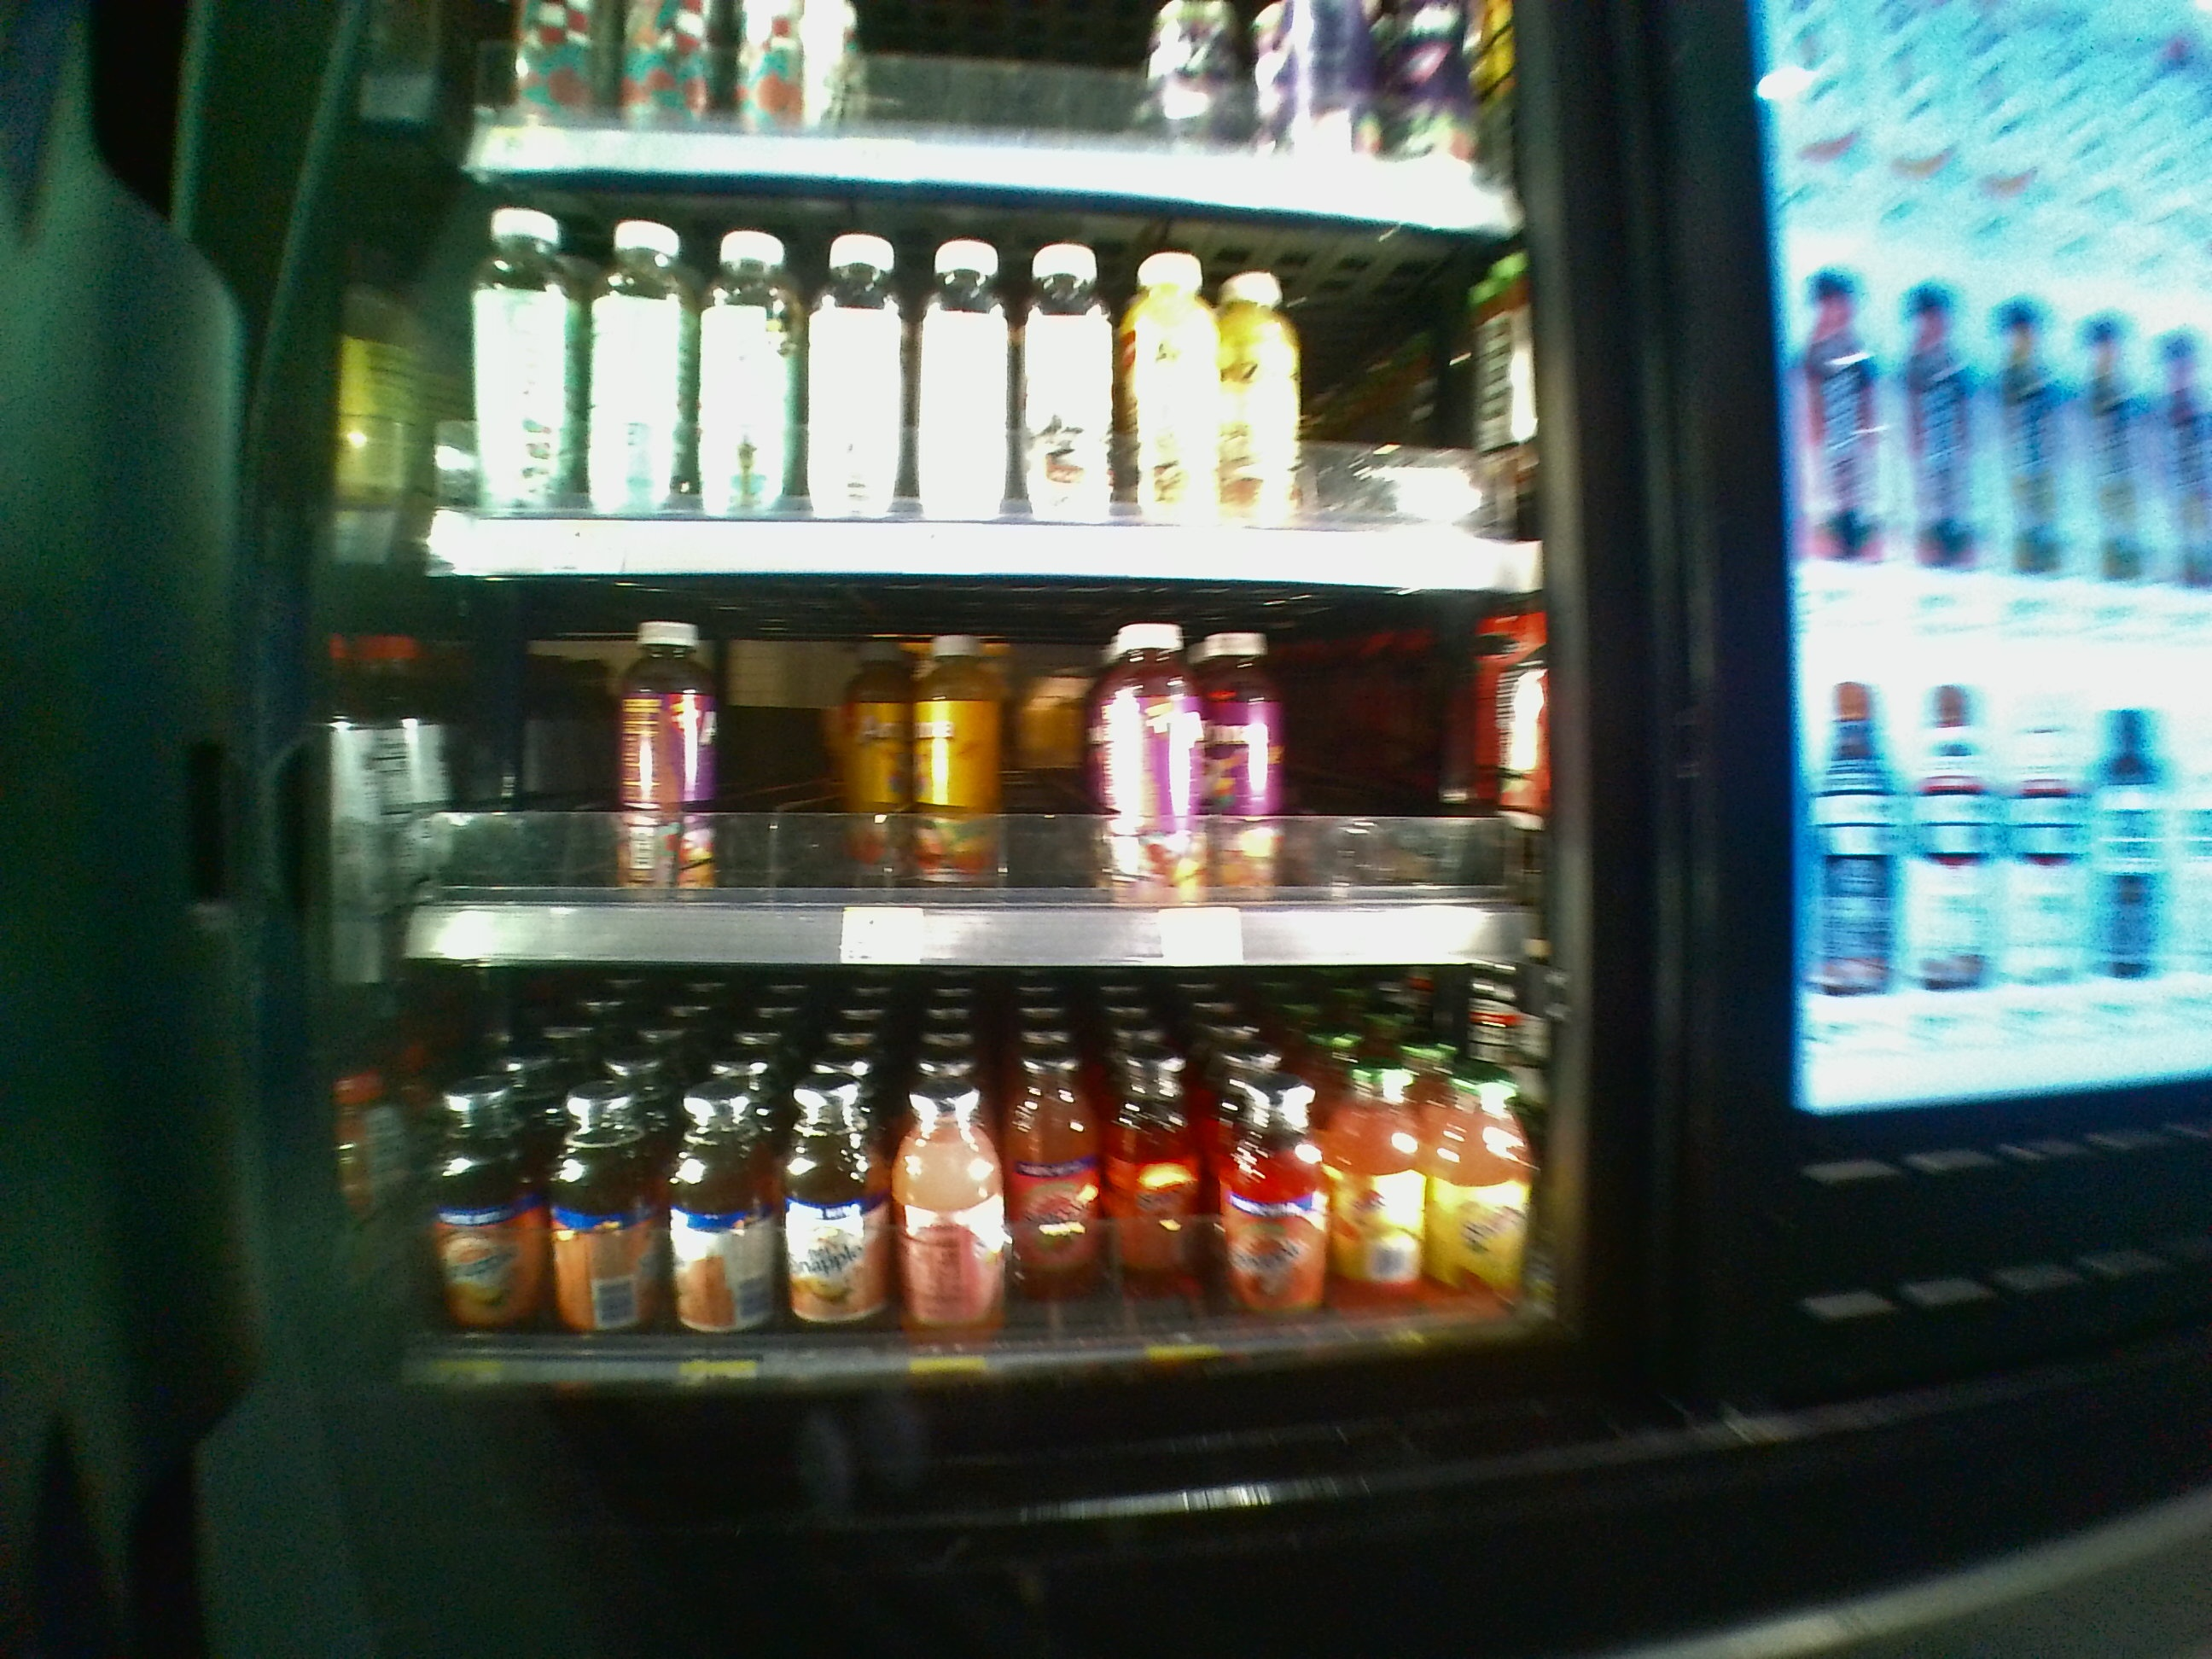shelf: (401, 974, 1554, 1394), (420, 179, 1533, 591), (401, 601, 1541, 964)
